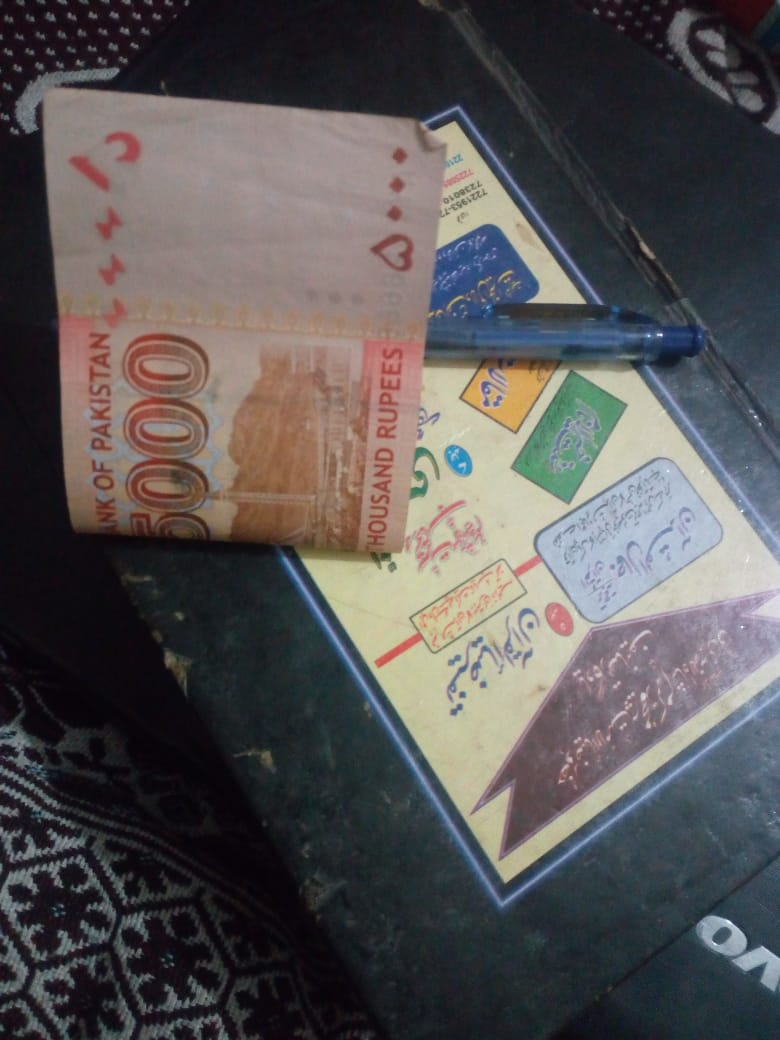5000 rupee: (18, 80, 439, 553)
